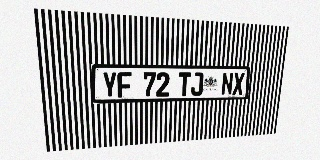2: (156, 72, 170, 97)
7: (143, 72, 156, 97)
F: (117, 72, 132, 98)
J: (191, 72, 204, 96)
N: (221, 72, 234, 95)
T: (178, 72, 191, 96)
X: (232, 72, 245, 95)
Y: (102, 72, 117, 98)
